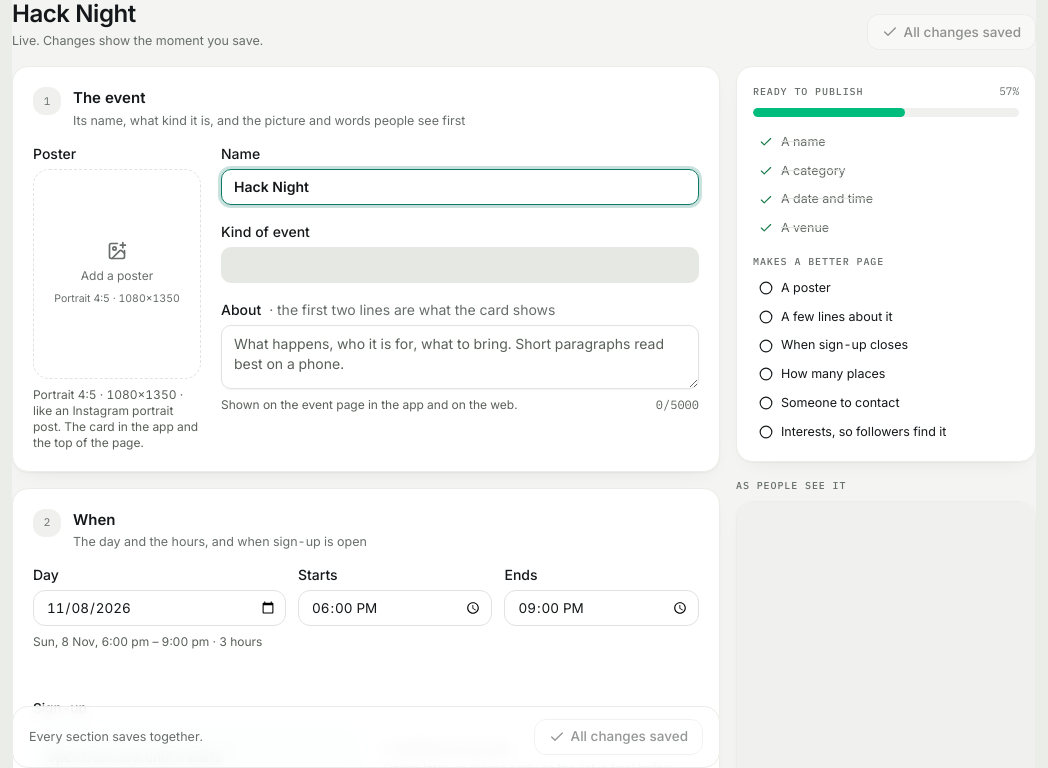
Test case: saving an edit to an event › does not send a form with a problem in it, and points at the problem
Replace the text in the field named "name" with "Hi". click: point(460, 187)
box: [221,169,699,205]
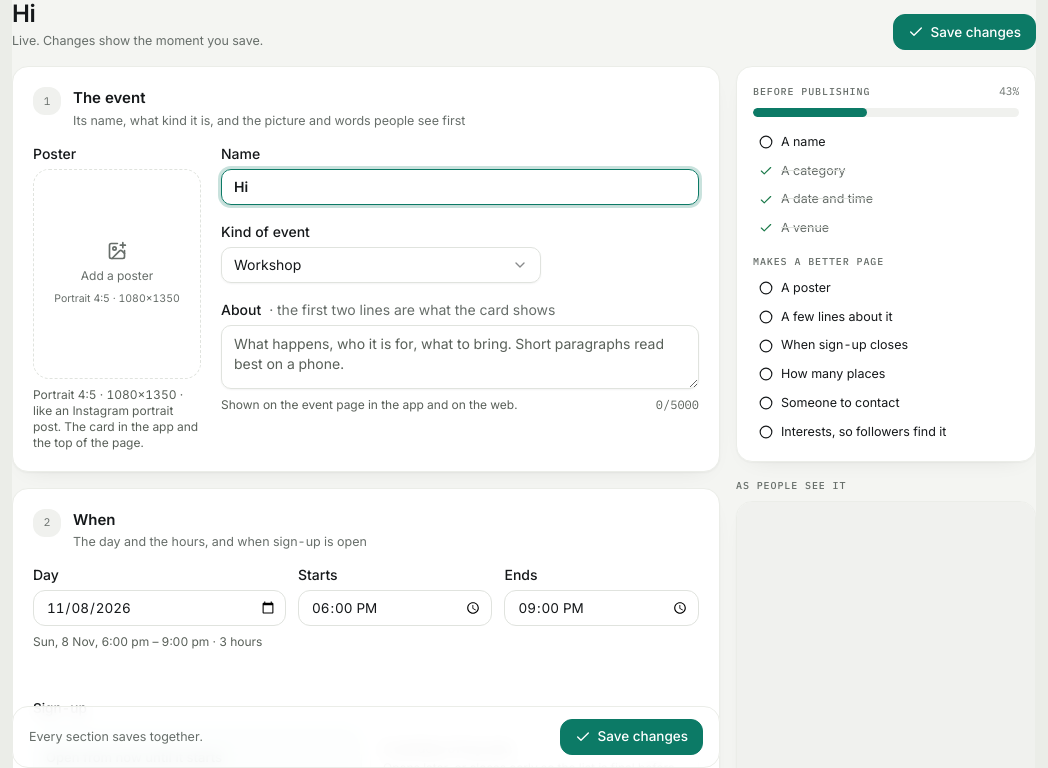
Click the button "Save changes" in the row of "Live. Changes show the moment you save.". click: point(965, 32)
box: [894,14,1036,50]
(page scrolled)
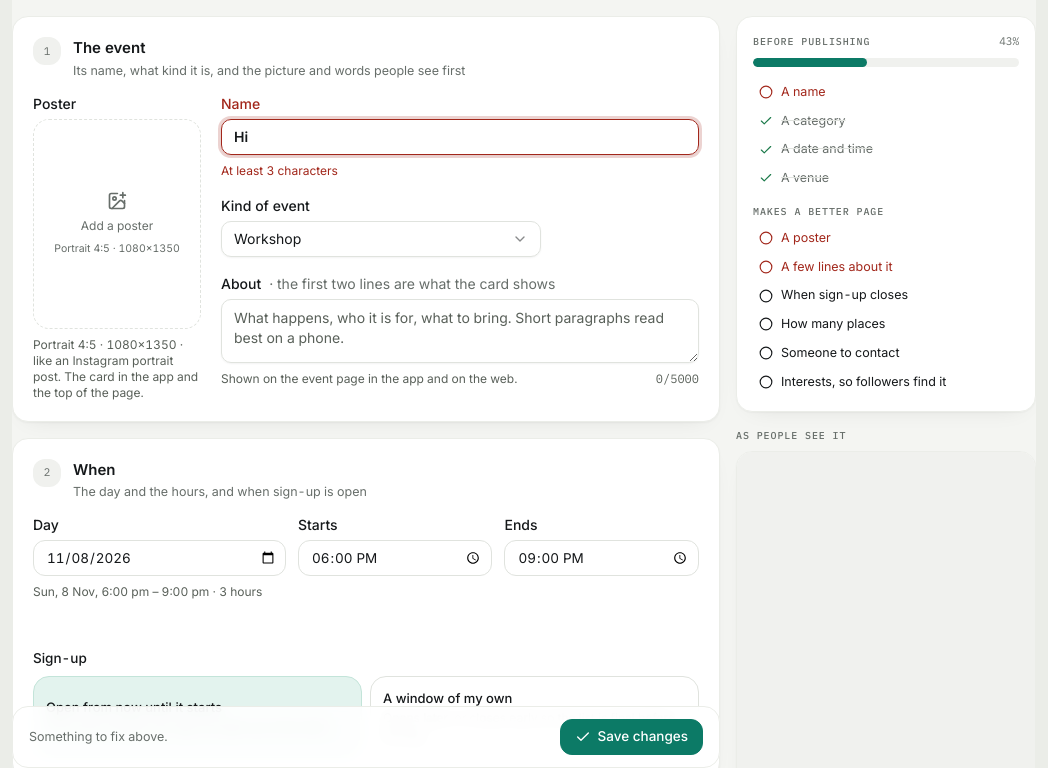
Now the text "At least 3 characters" is shown, box [221,163,338,178]
Now the text "Something to fix above." is shown, box [29,728,168,746]
